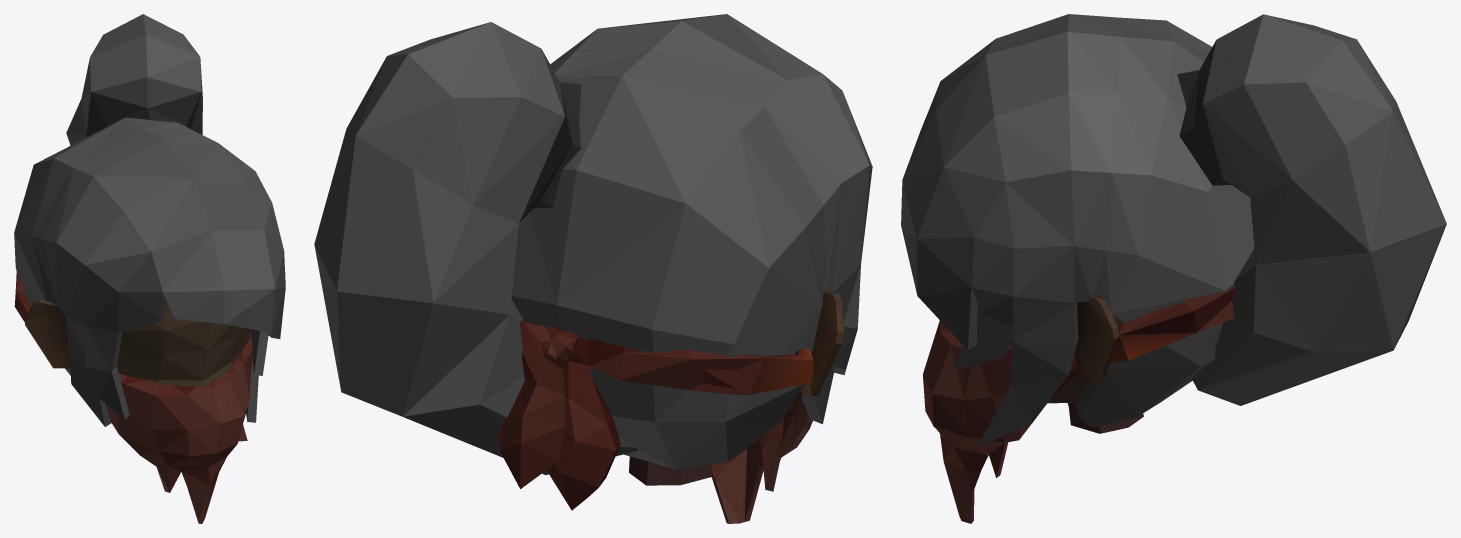
Rendered from helm_darkskin_ponytail_gray_bandana.fbx.
The picture shows the model from 3 angles, left to right: view 1: azimuth 30°, elevation 25°; view 2: azimuth 150°, elevation 25°; view 3: azimuth 270°, elevation 25°; orthographic projection. The views are drawn at different scales.
Parts seen in each view (by area): view 1: helm_darkskin_ponytail_black_bandana; view 2: helm_darkskin_ponytail_black_bandana; view 3: helm_darkskin_ponytail_black_bandana.
Part boxes in pixels (left/top/right/bottom): helm_darkskin_ponytail_black_bandana: left=14, top=14, right=285, bottom=523; helm_darkskin_ponytail_black_bandana: left=314, top=14, right=872, bottom=523; helm_darkskin_ponytail_black_bandana: left=901, top=14, right=1446, bottom=523.
Size of the model in its own units: 1.21 by 1.8 by 1.64.
